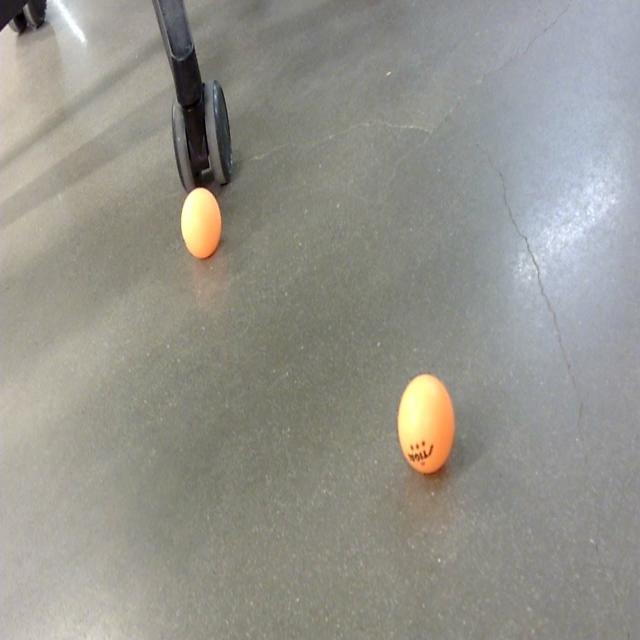ball: (397, 371, 456, 478), (179, 186, 224, 264)
